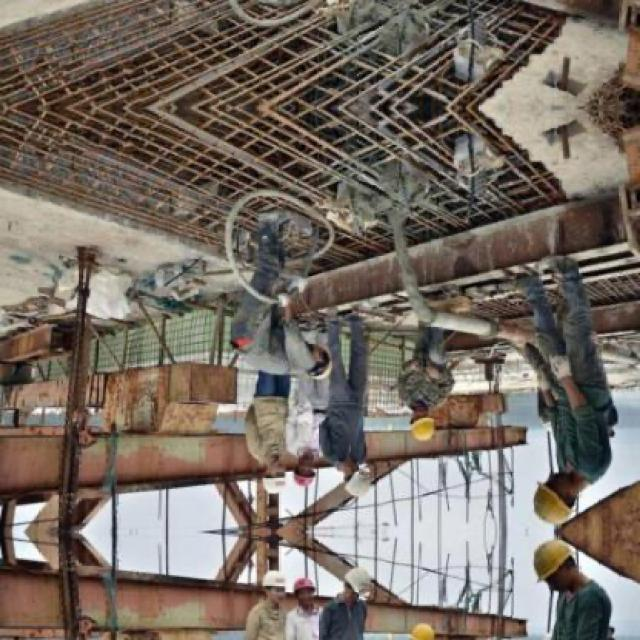con casco: (524, 454, 597, 530), (326, 428, 379, 501), (251, 436, 305, 501), (398, 401, 462, 448), (295, 434, 328, 489)
